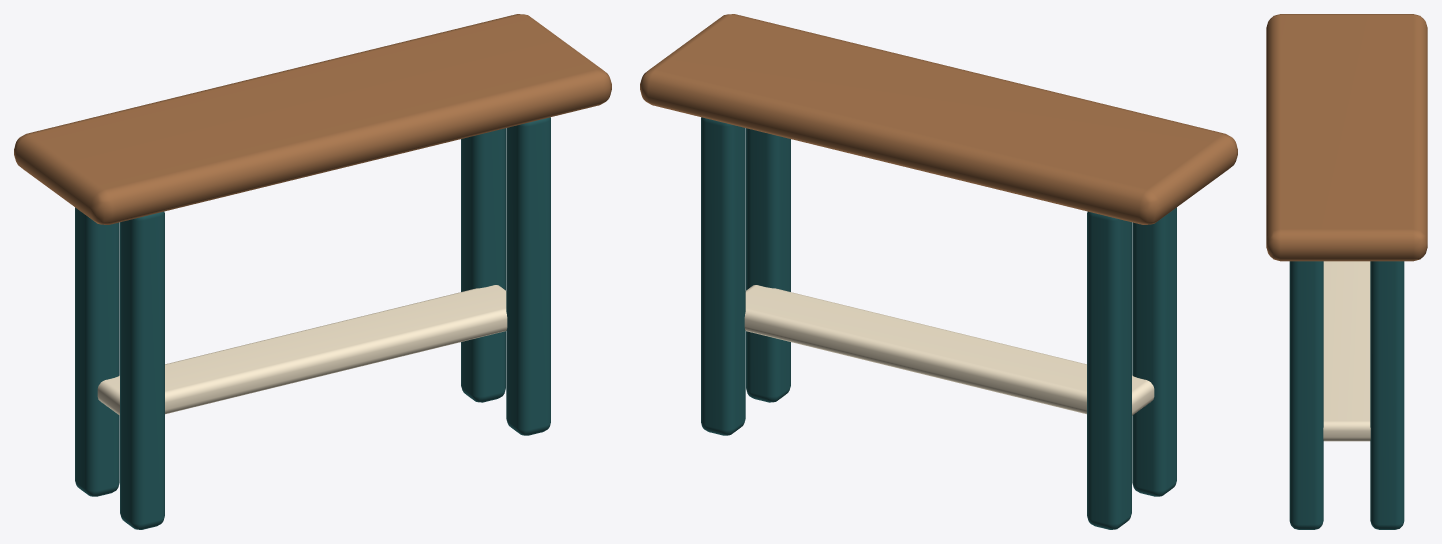
Rendered from IntroToyStand.fbx.
The picture shows the model from 3 angles, left to right: view 1: azimuth 30°, elevation 25°; view 2: azimuth 150°, elevation 25°; view 3: azimuth 270°, elevation 25°; orthographic projection. The views are drawn at different scales.
Visible parts, largest first — view 1: LowToyShelfTop, ShelfLowerBrace, RoundedShelfLeg.001, RoundedShelfLeg.003, RoundedShelfLeg, RoundedShelfLeg.002; view 2: LowToyShelfTop, ShelfLowerBrace, RoundedShelfLeg, RoundedShelfLeg.002, RoundedShelfLeg.001, RoundedShelfLeg.003; view 3: LowToyShelfTop, RoundedShelfLeg.002, RoundedShelfLeg.003, ShelfLowerBrace.
Boxes of the visible parts, <box> form: LowToyShelfTop: <box>14,14,611,224</box>; ShelfLowerBrace: <box>97,285,507,415</box>; RoundedShelfLeg.001: <box>120,211,164,529</box>; RoundedShelfLeg.003: <box>506,117,550,435</box>; RoundedShelfLeg: <box>75,207,119,496</box>; RoundedShelfLeg.002: <box>461,128,505,402</box>; LowToyShelfTop: <box>640,14,1237,224</box>; ShelfLowerBrace: <box>744,285,1154,415</box>; RoundedShelfLeg: <box>1087,211,1131,529</box>; RoundedShelfLeg.002: <box>701,117,745,435</box>; RoundedShelfLeg.001: <box>1132,207,1176,496</box>; RoundedShelfLeg.003: <box>746,128,790,402</box>; LowToyShelfTop: <box>1266,14,1427,261</box>; RoundedShelfLeg.002: <box>1370,261,1404,529</box>; RoundedShelfLeg.003: <box>1289,261,1323,529</box>; ShelfLowerBrace: <box>1323,261,1370,441</box>.
Size of the model in its own units: 86 by 56.75 by 26.
